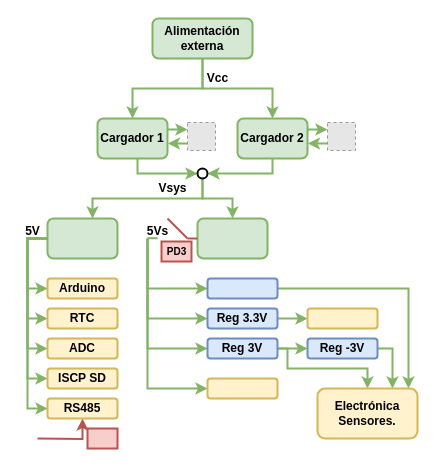
This 435x466 diagram has some shape labels left out. Grey dashed boxes stand in for pictures. Here are the shapes that lost their labels. From the top down, the centre of each, then its label:
the point at 82,238: Elevador 1
the point at 232,238: Elevador 2
the point at 242,288: Reg -5V
the point at 342,318: SD
the point at 242,388: Sensores
the point at 102,438: PD4
